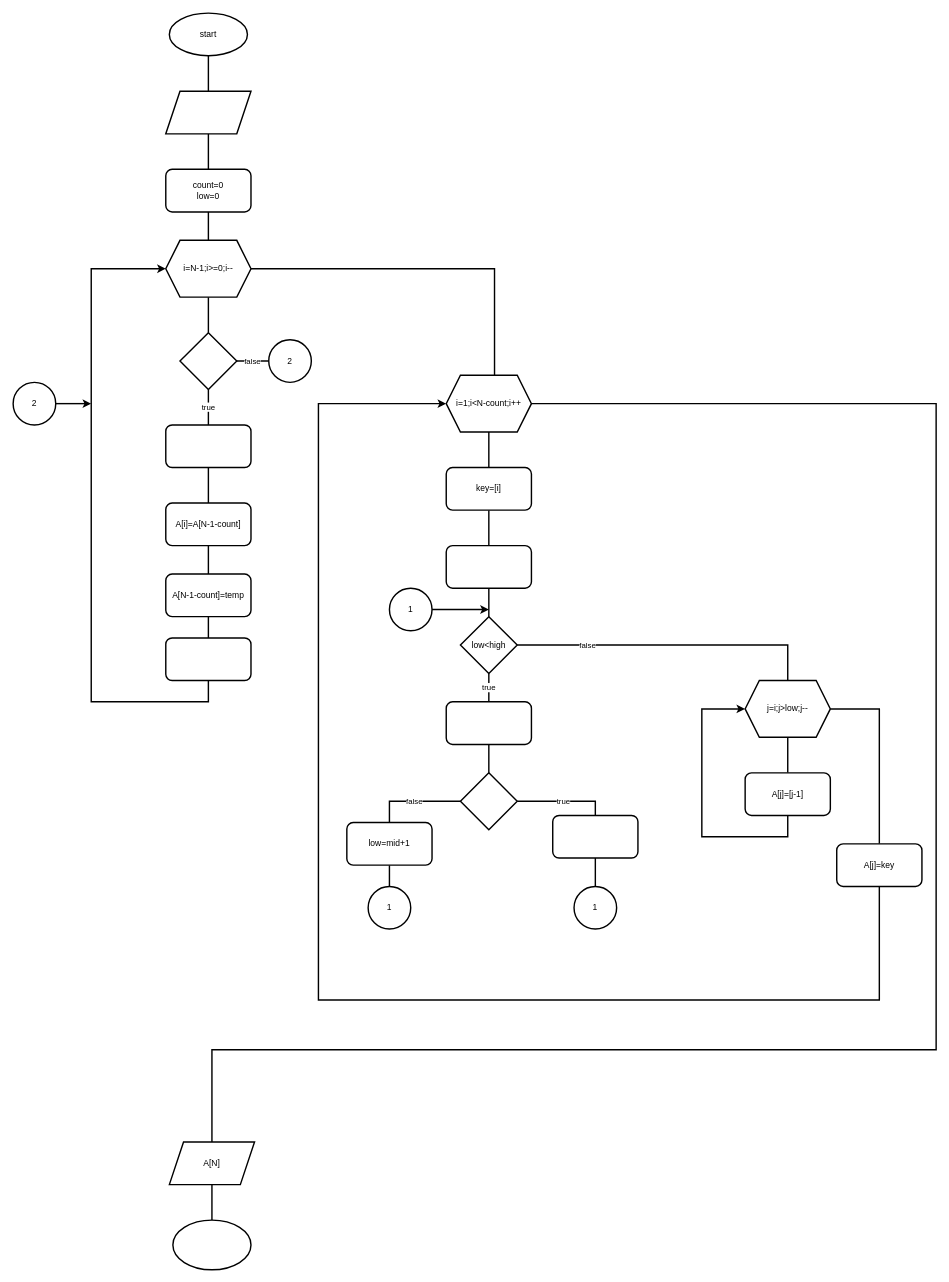
Image size: 949x1282. Some labels were removed from this diagram. The shapes that lost their labels are listed below. From the top down, each one's box as (x1, y1, x2, y2) in pixels, then its label:
(165, 90, 251, 134): A[N] є N
(179, 332, 237, 390): A[i]%2=1
(165, 424, 251, 468): temp=A[i]
(445, 545, 532, 589): high=i
(165, 637, 251, 681): count++
(445, 701, 532, 745): mid=(low+high)/2
(459, 772, 518, 830): key>A[mid]
(552, 814, 638, 858): high=mid
(172, 1219, 251, 1270): end
